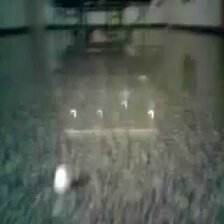w: (53, 164, 73, 193)
